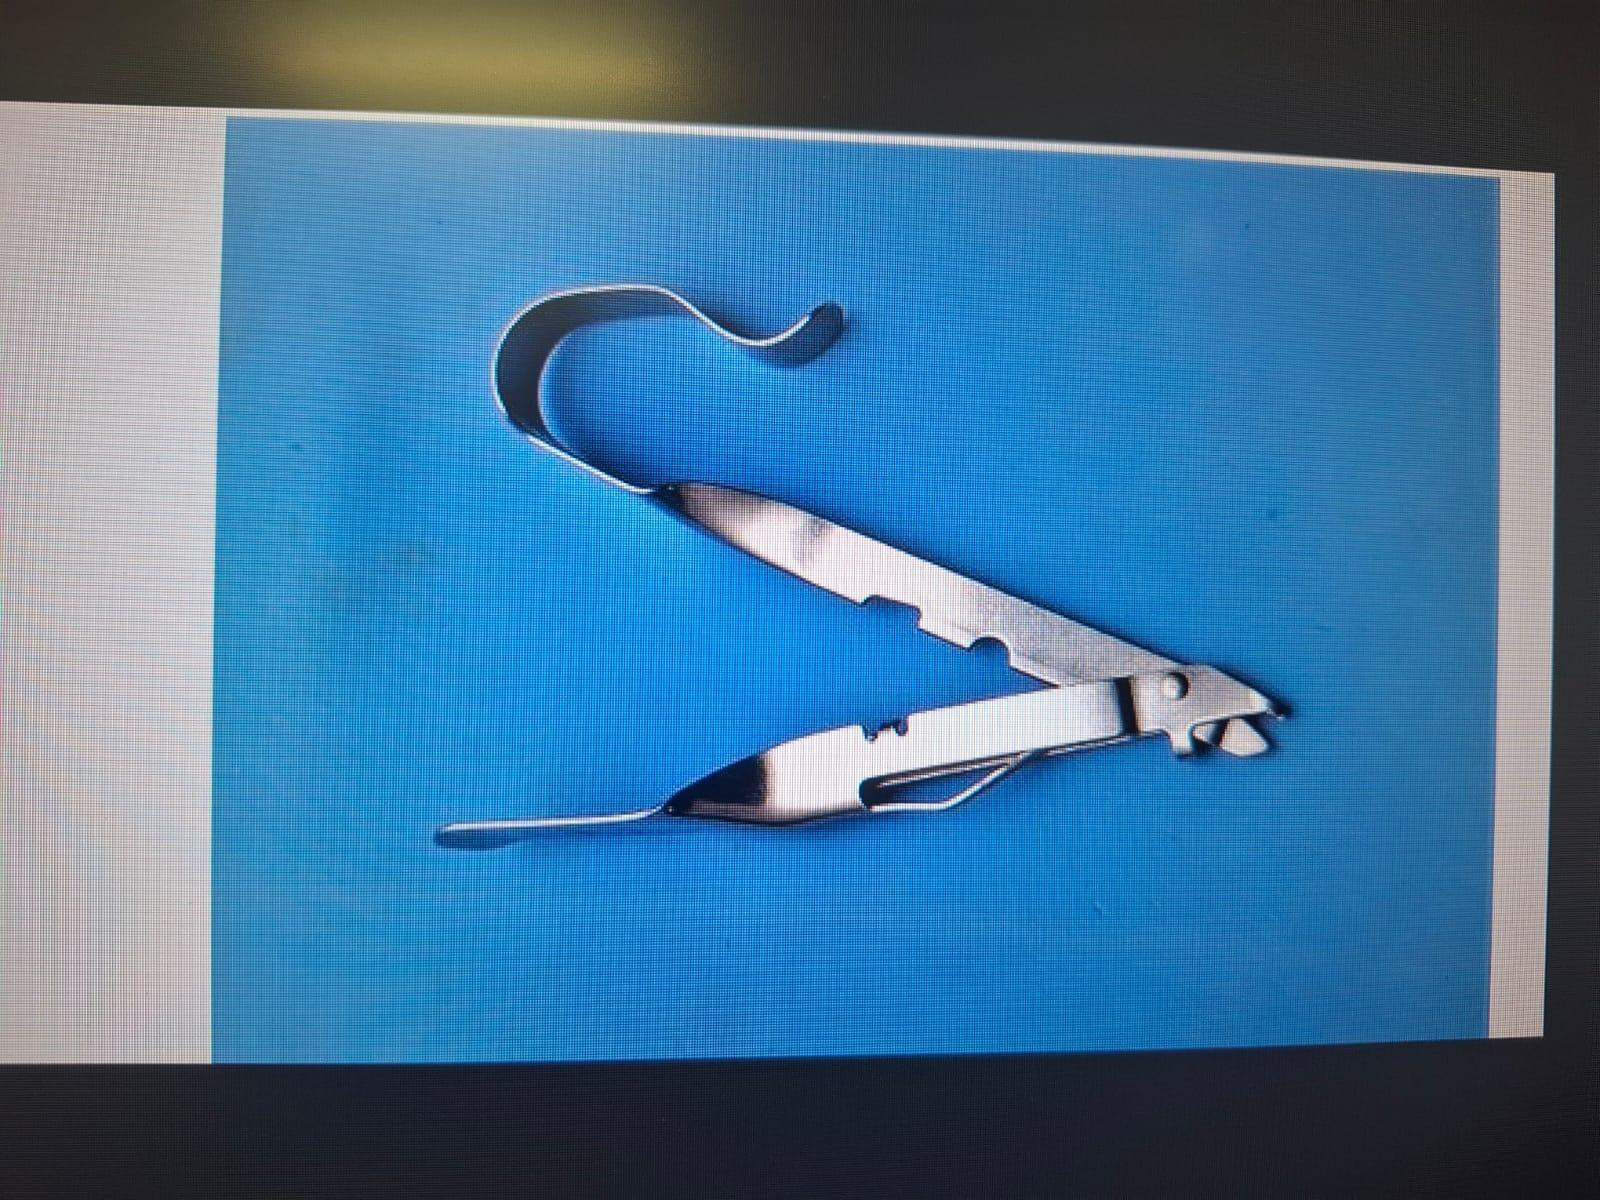Stapler Remover: (404, 256, 1300, 913)
